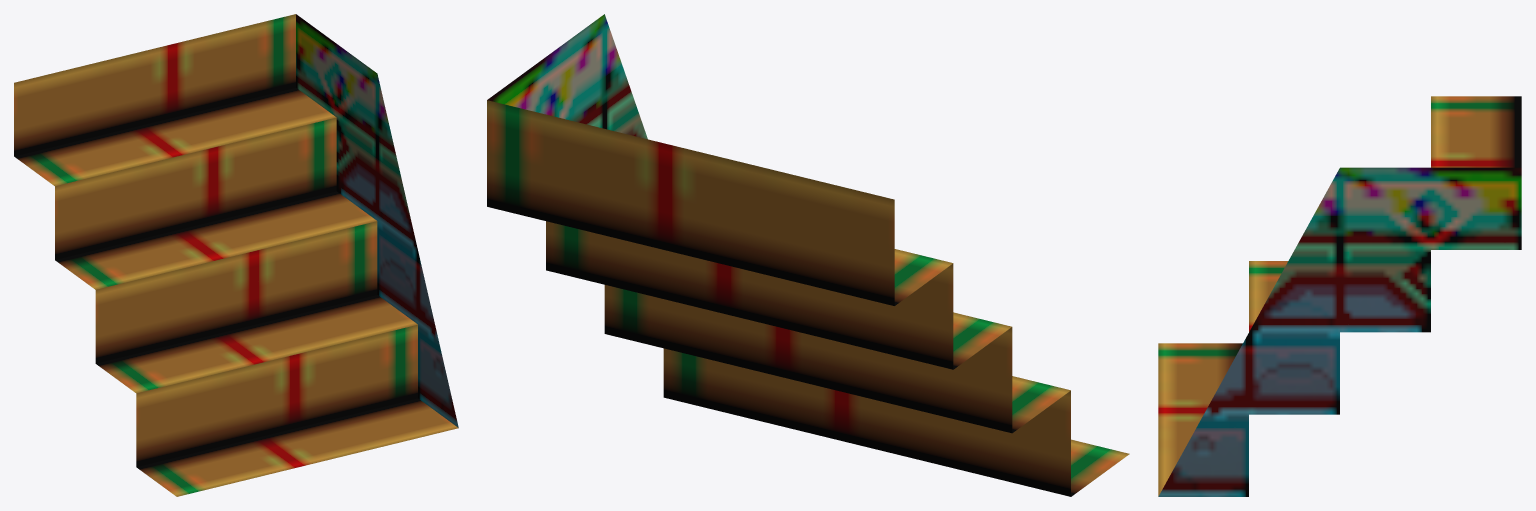
File: arch_cathedral_stairs_wallRight.FBX
3 views of the same model, side by side, from view 1: azimuth 30°, elevation 25°; view 2: azimuth 150°, elevation 25°; view 3: azimuth 270°, elevation 25° (orthographic). The views are drawn at different scales.
Visible parts, largest first — view 1: arch_cathedral_stairs_wallRight; view 2: arch_cathedral_stairs_wallRight; view 3: arch_cathedral_stairs_wallRight.
Part boxes in pixels (x1,y1,x2,y2): arch_cathedral_stairs_wallRight: [14, 14, 458, 496]; arch_cathedral_stairs_wallRight: [487, 14, 1129, 496]; arch_cathedral_stairs_wallRight: [1158, 96, 1521, 496].
Bounding box in the file's own units: 2 × 2 × 2.
1 material, 1 textured.
